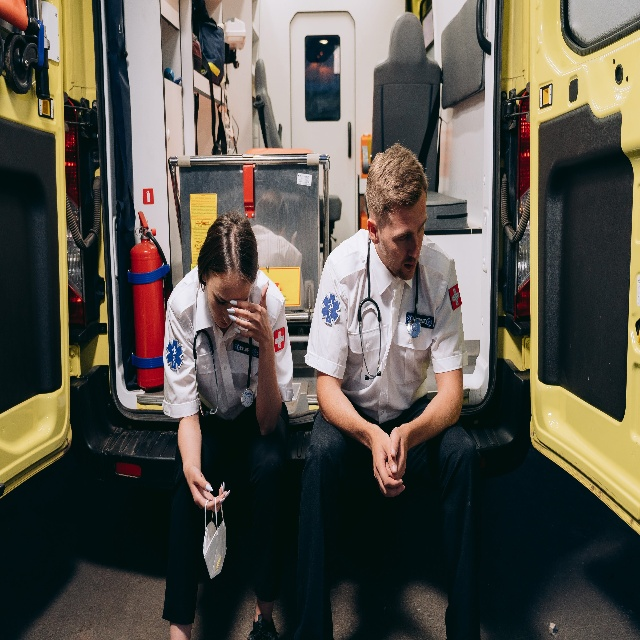Mascara: (203, 495, 230, 578)
Sin_guantes: (373, 427, 406, 499), (228, 285, 271, 338), (381, 424, 409, 485), (189, 466, 229, 504)
